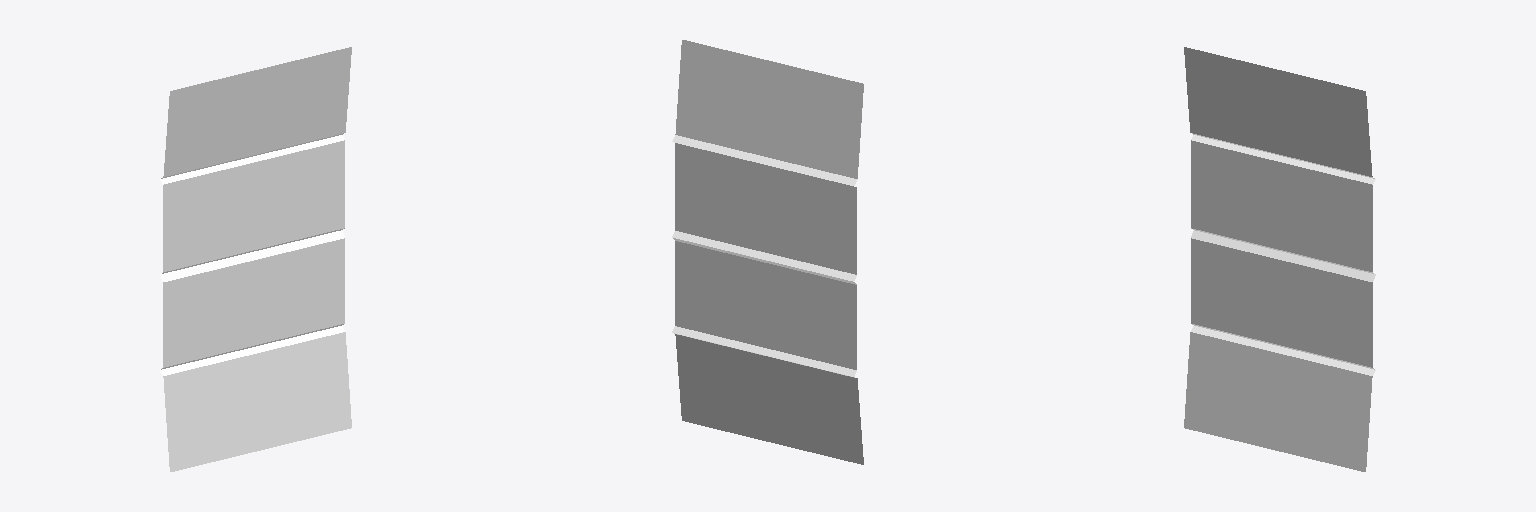
Rendered from Wall.obj.
The picture shows the model from 3 angles: view 1: azimuth 30°, elevation 25°; view 2: azimuth 150°, elevation 25°; view 3: azimuth 330°, elevation 25°; orthographic projection.
Parts seen in each view (by area): view 1: Cube_Cube.001; view 2: Cube_Cube.001; view 3: Cube_Cube.001.
Boxes of the visible parts, <box> form: Cube_Cube.001: <box>160,47,351,471</box>; Cube_Cube.001: <box>672,40,863,464</box>; Cube_Cube.001: <box>1184,47,1375,471</box>.
Bounding box in the file's own units: 2 × 4 × 0.1899.